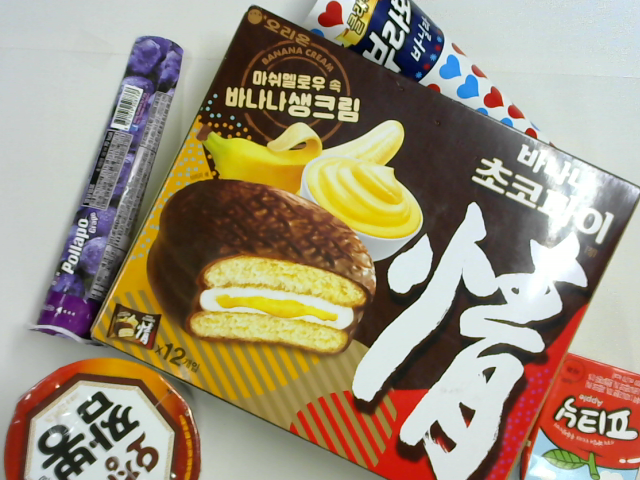Bravo_Cone_(Banila)_CVS: (309, 2, 563, 166)
Choco_Pie_Banana: (93, 6, 640, 478)
Ojjam: (5, 354, 204, 480)
Picnic_Apple: (521, 354, 640, 478)
Polapo_Grape: (35, 32, 189, 344)
